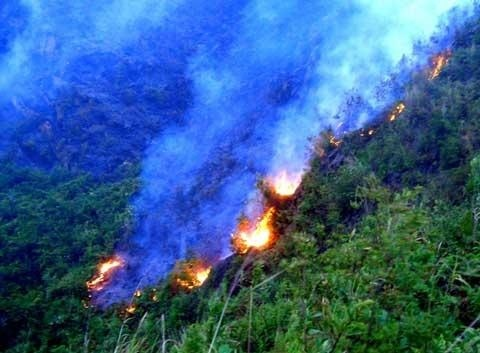fire: (232, 205, 277, 251), (84, 254, 120, 286), (177, 260, 213, 287), (268, 168, 301, 195), (427, 49, 450, 77), (387, 101, 405, 121)
